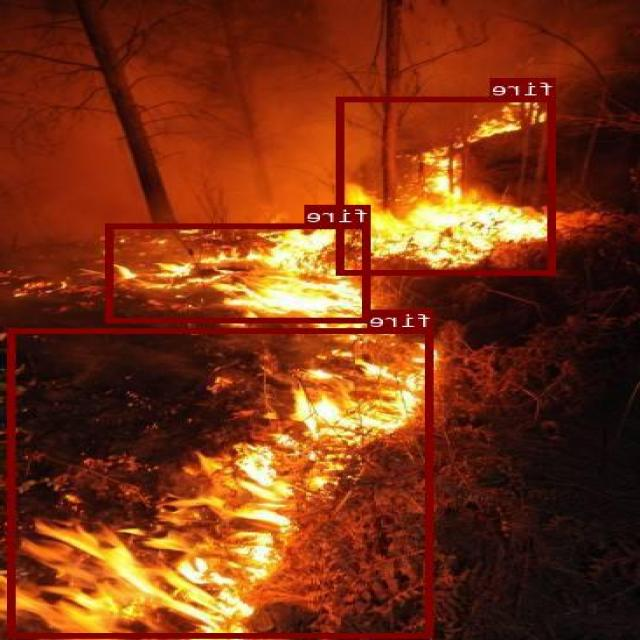fire: (11, 327, 434, 637), (339, 96, 558, 274), (108, 223, 371, 321)
